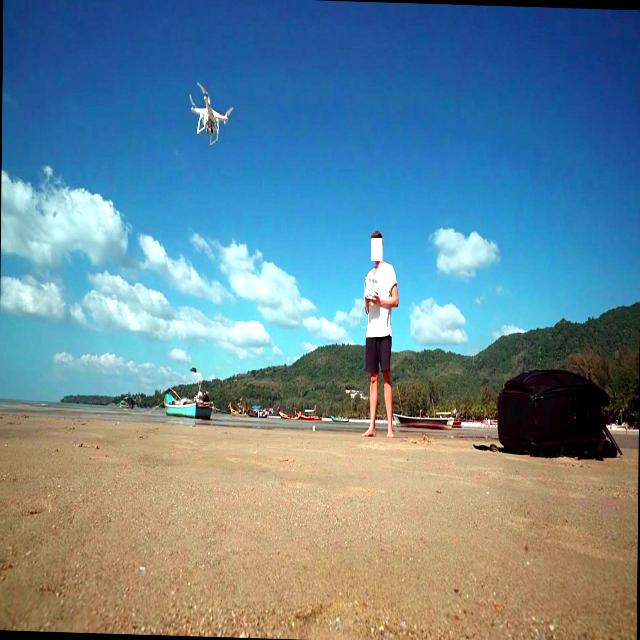drone: (187, 81, 235, 149)
